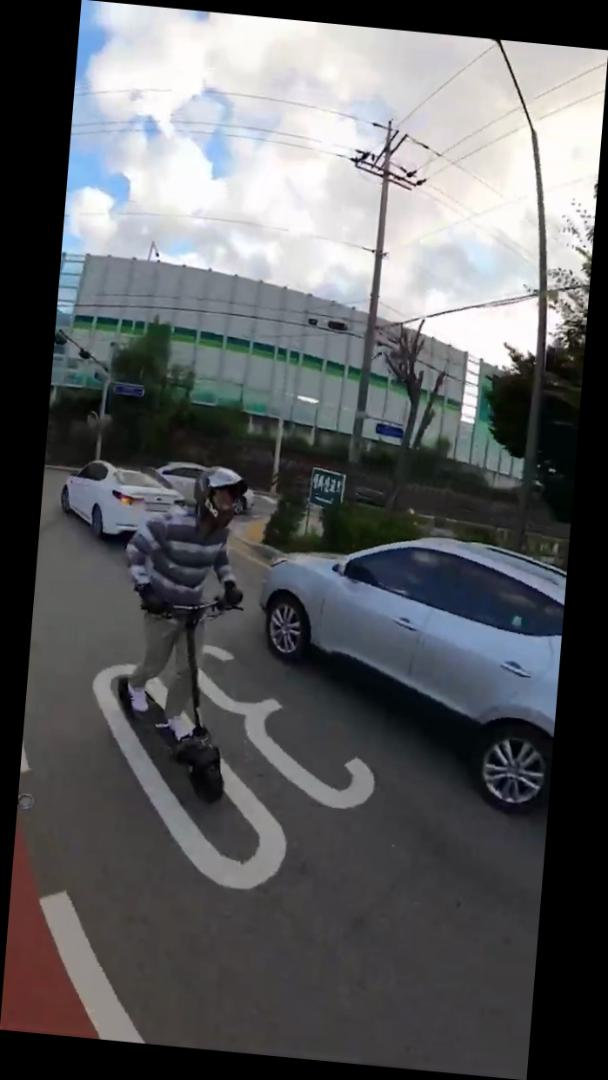helmet: (105, 457, 264, 807)
